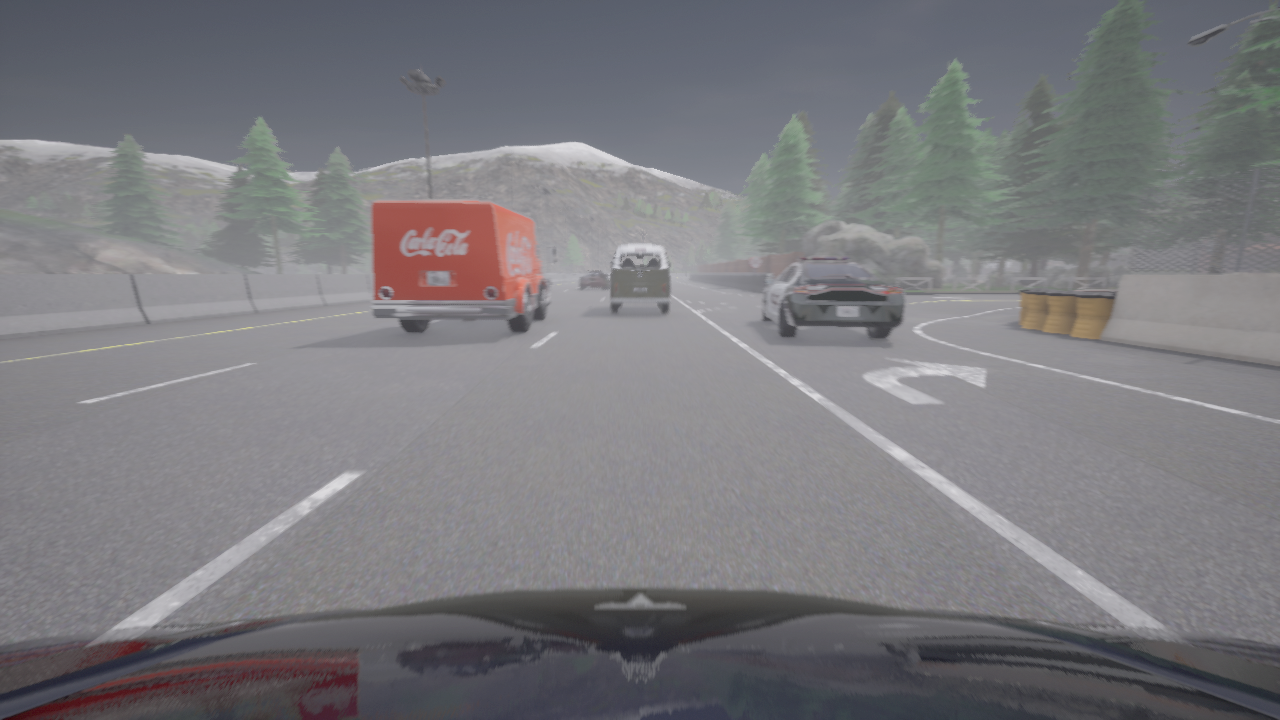cyclist: (0, 588, 1279, 719), (371, 201, 554, 333), (761, 257, 905, 338), (610, 245, 669, 313), (579, 271, 608, 289), (542, 275, 549, 291)
